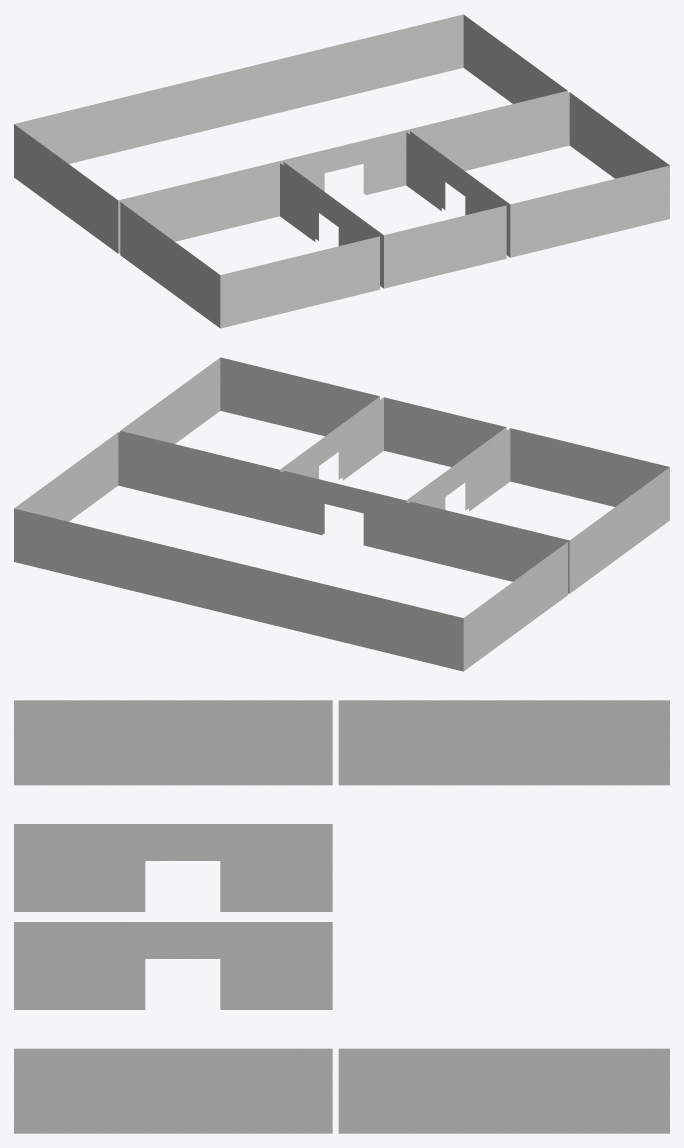
Rendered from gallery_template_01_display.obj.
3 renders of one model, top to bottom at view 1: azimuth 30°, elevation 25°; view 2: azimuth 150°, elevation 25°; view 3: azimuth 270°, elevation 25°, orthographic. The views are drawn at different scales.
Parts seen in each view (by area): view 1: display_model pPlane6, display_model polySurface40, display_model polySurface38, display_model polySurface30, display_model polySurface33, polySurface41 display_model, display_model polySurface36, display_model polySurface37, display_model polySurface35, display_model polySurface32, display_model polySurface34, display_model polySurface3 (+4 smaller); view 2: display_model pPlane6, display_model polySurface12, display_model polySurface40, display_model polySurface38, display_model polySurface36, display_model polySurface37, polySurface41 display_model, display_model polySurface35, display_model polySurface34, display_model polySurface3, display_model polySurface5, display_model polySurface7 (+2 smaller); view 3: display_model polySurface35, display_model polySurface36, display_model polySurface37, display_model polySurface34, display_model polySurface7, display_model polySurface2, display_model polySurface5, display_model polySurface3.
Part boxes in pixels (box(x1,y1,x2,y2)): display_model pPlane6: box(14, 14, 463, 163); display_model polySurface40: box(510, 165, 669, 257); display_model polySurface38: box(220, 236, 379, 328); display_model polySurface30: box(410, 92, 569, 170); display_model polySurface33: box(120, 163, 279, 241); polySurface41 display_model: box(384, 205, 506, 288); display_model polySurface36: box(14, 124, 118, 253); display_model polySurface37: box(120, 202, 220, 327); display_model polySurface35: box(463, 15, 567, 103); display_model polySurface32: box(284, 132, 406, 195); display_model polySurface34: box(569, 92, 669, 178); display_model polySurface3: box(280, 163, 379, 245); display_model pPlane6: box(14, 508, 463, 671); display_model polySurface12: box(118, 432, 567, 581); display_model polySurface40: box(220, 357, 379, 436); display_model polySurface38: box(510, 428, 669, 506); display_model polySurface36: box(463, 542, 567, 670); display_model polySurface37: box(569, 467, 669, 593); polySurface41 display_model: box(384, 397, 506, 467); display_model polySurface35: box(14, 432, 118, 521); display_model polySurface34: box(120, 358, 220, 443); display_model polySurface3: box(410, 428, 510, 511); display_model polySurface5: box(284, 397, 383, 480); display_model polySurface7: box(280, 396, 379, 479); display_model polySurface35: box(338, 1048, 669, 1133); display_model polySurface36: box(338, 700, 669, 785); display_model polySurface37: box(14, 700, 332, 785); display_model polySurface34: box(14, 1048, 332, 1133); display_model polySurface7: box(14, 925, 332, 1009); display_model polySurface2: box(14, 827, 332, 911); display_model polySurface5: box(14, 922, 332, 924); display_model polySurface3: box(14, 824, 332, 826).
Bounding box in the file's own units: 44 × 5 × 35.
Materials: 1 (1 with a texture image).
